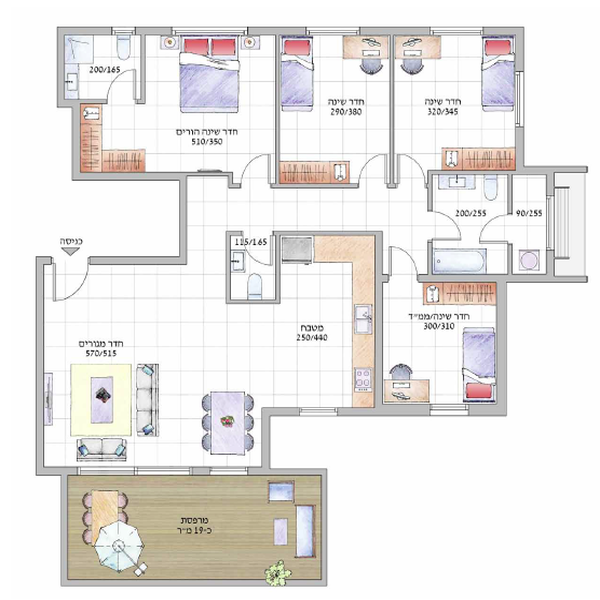door: (51, 261, 88, 309), (237, 151, 275, 193), (107, 66, 141, 109), (427, 207, 466, 242), (357, 145, 388, 188), (478, 213, 521, 244), (396, 151, 426, 191), (243, 237, 275, 271), (387, 246, 417, 279)
room: (34, 259, 269, 477), (140, 27, 280, 189), (388, 26, 526, 174), (274, 230, 380, 417), (276, 25, 394, 191), (374, 274, 507, 419), (424, 172, 557, 283), (53, 23, 147, 111)
wall: (35, 258, 43, 474), (374, 227, 383, 414), (497, 283, 508, 415), (418, 274, 587, 282), (71, 171, 184, 182), (89, 256, 183, 266), (357, 26, 431, 37), (247, 25, 308, 38), (57, 26, 66, 107), (180, 177, 188, 265), (261, 410, 270, 475), (71, 109, 80, 171), (523, 165, 588, 173), (386, 404, 429, 415), (516, 127, 525, 174), (515, 36, 525, 74), (483, 27, 525, 36), (63, 28, 113, 35), (133, 27, 171, 36), (469, 404, 495, 416), (38, 466, 75, 474), (266, 408, 302, 416), (337, 409, 378, 415)
window: (177, 26, 243, 36), (308, 27, 361, 36), (518, 76, 527, 124), (434, 29, 482, 37)
